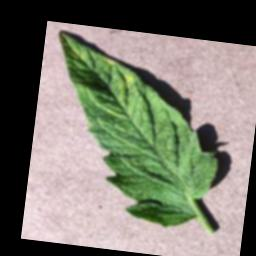Leaf_Mold: (114, 70, 139, 104)
